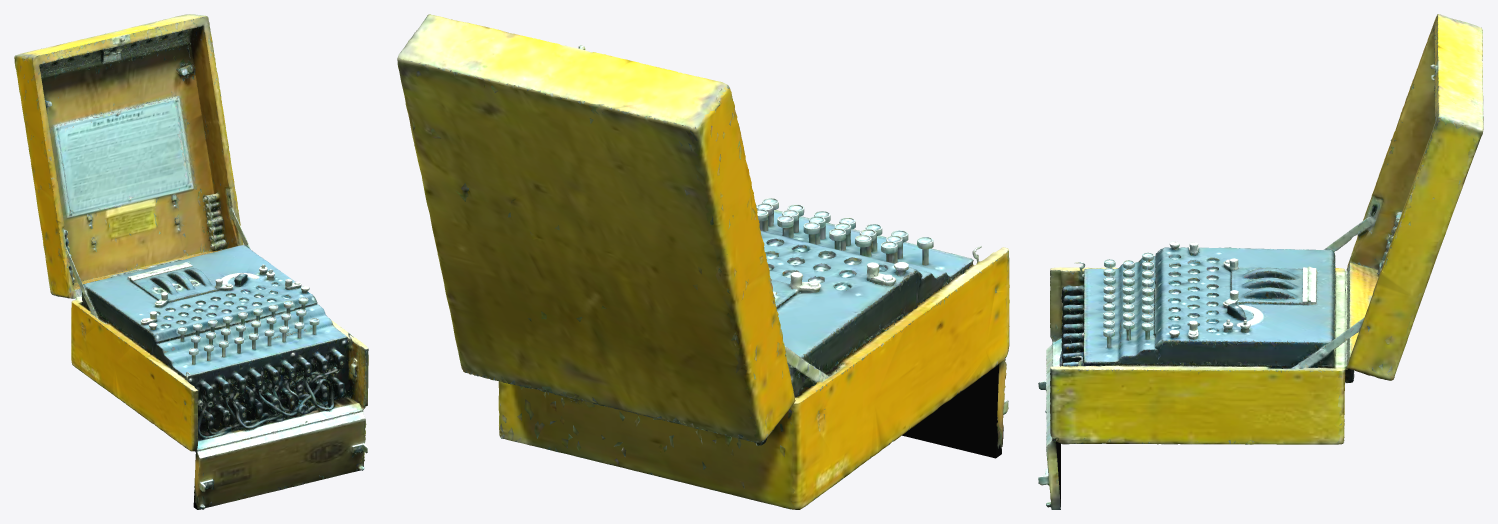
Rendered from enigma01.glb.
3 views of the same model, side by side, from view 1: azimuth 30°, elevation 25°; view 2: azimuth 150°, elevation 25°; view 3: azimuth 270°, elevation 25° (orthographic). The views are drawn at different scales.
Visible parts, largest first — view 1: Object_3; view 2: Object_3, Object_8; view 3: Object_3.
Part boxes in pixels (left/top/right/bottom): Object_3: left=14, top=14, right=368, bottom=509; Object_3: left=397, top=14, right=1009, bottom=509; Object_8: left=902, top=364, right=1005, bottom=458; Object_3: left=1038, top=14, right=1483, bottom=509.
Size of the model in its own units: 19.46 by 34.99 by 35.4.
2 materials, 1 textured.
